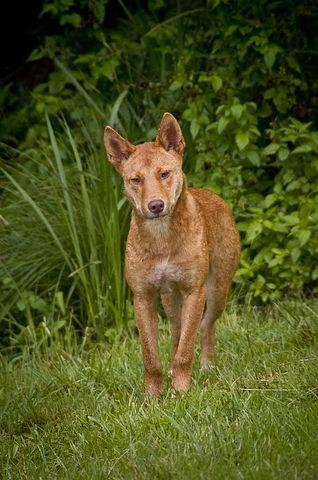Wolf: (100, 110, 244, 408)
